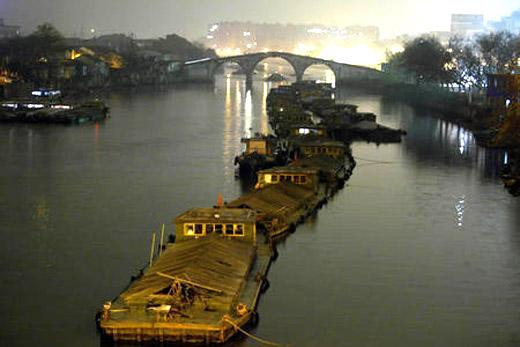boat: (96, 207, 270, 337), (212, 168, 334, 213), (287, 140, 353, 169), (235, 132, 285, 164)
